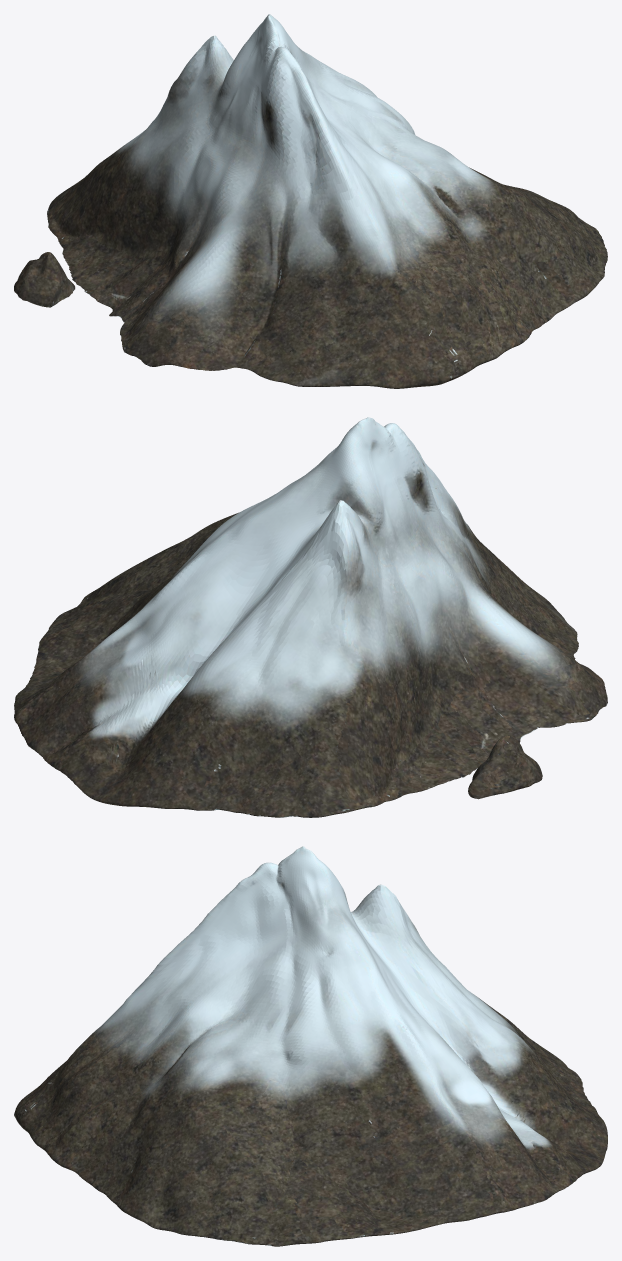
The model's file is Hill.fbx.
The picture shows the model from 3 angles, top to bottom: view 1: azimuth 30°, elevation 25°; view 2: azimuth 150°, elevation 25°; view 3: azimuth 270°, elevation 25°; orthographic projection. The views are drawn at different scales.
Visible parts, largest first — view 1: Hill; view 2: Hill; view 3: Hill.
Part boxes in pixels (x1,y1,x2,y2): Hill: (14, 14, 607, 388); Hill: (14, 417, 607, 817); Hill: (14, 846, 607, 1246).
Bounding box in the file's own units: 162 × 86.3 × 170.
